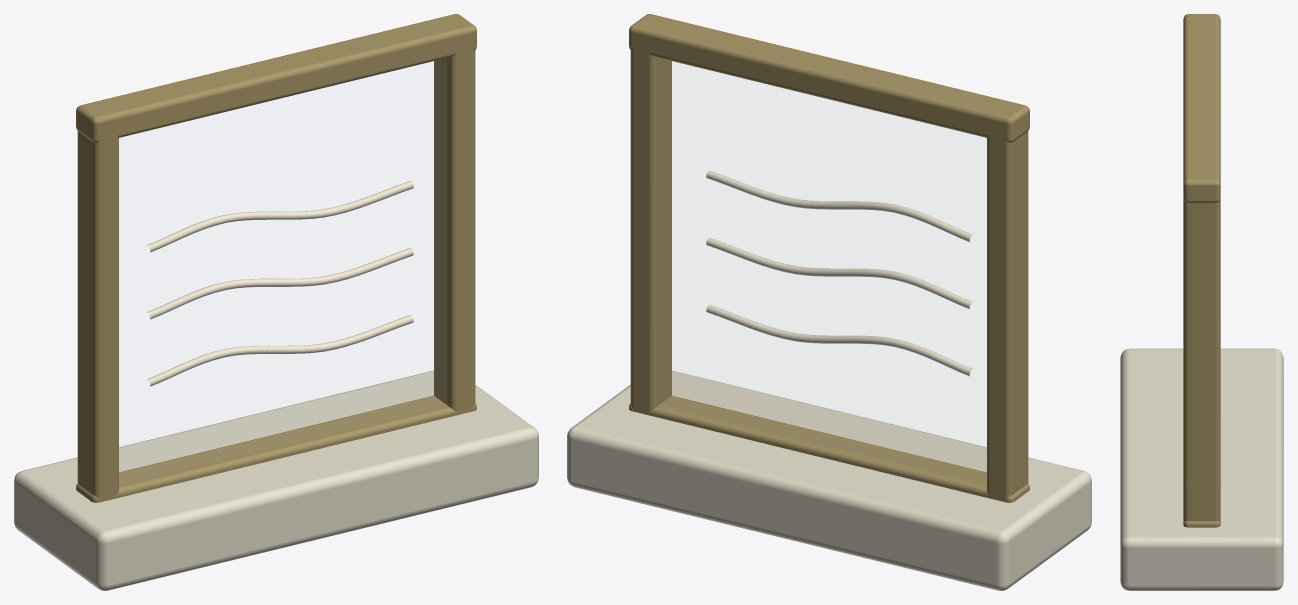
File: water-clock-garden-and-hydraulic-puzzles-ripple-sight--2ec4f377__31945.glb
The picture shows the model from 3 angles, left to right: view 1: azimuth 30°, elevation 25°; view 2: azimuth 150°, elevation 25°; view 3: azimuth 270°, elevation 25°; orthographic projection. The views are drawn at different scales.
Parts seen in each view (by area): view 1: ripple-sight-window; view 2: ripple-sight-window; view 3: ripple-sight-window.
Boxes of the visible parts, bbox=[...] form: ripple-sight-window: bbox=[14, 14, 538, 590]; ripple-sight-window: bbox=[567, 14, 1091, 590]; ripple-sight-window: bbox=[1120, 14, 1283, 590].
Bounding box in the file's own units: 0.62 × 0.595 × 0.22.
